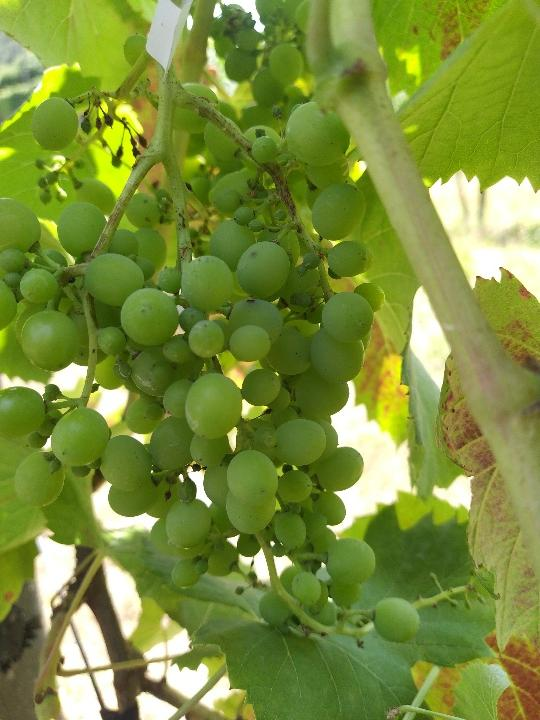grape: (4, 82, 425, 649)
